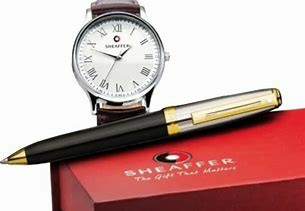pen: (1, 84, 286, 176)
